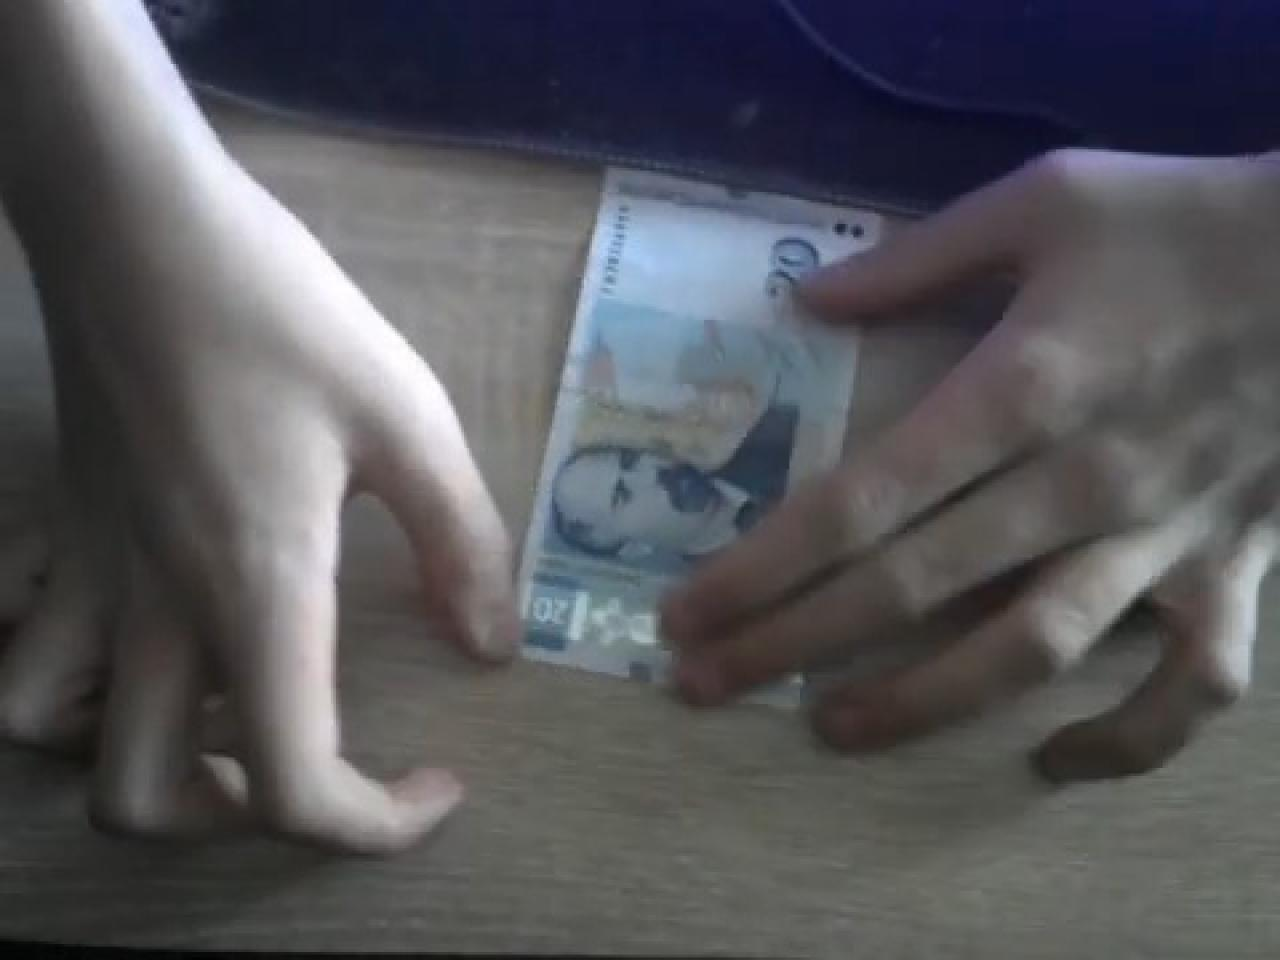20leva: (517, 168, 885, 691)
